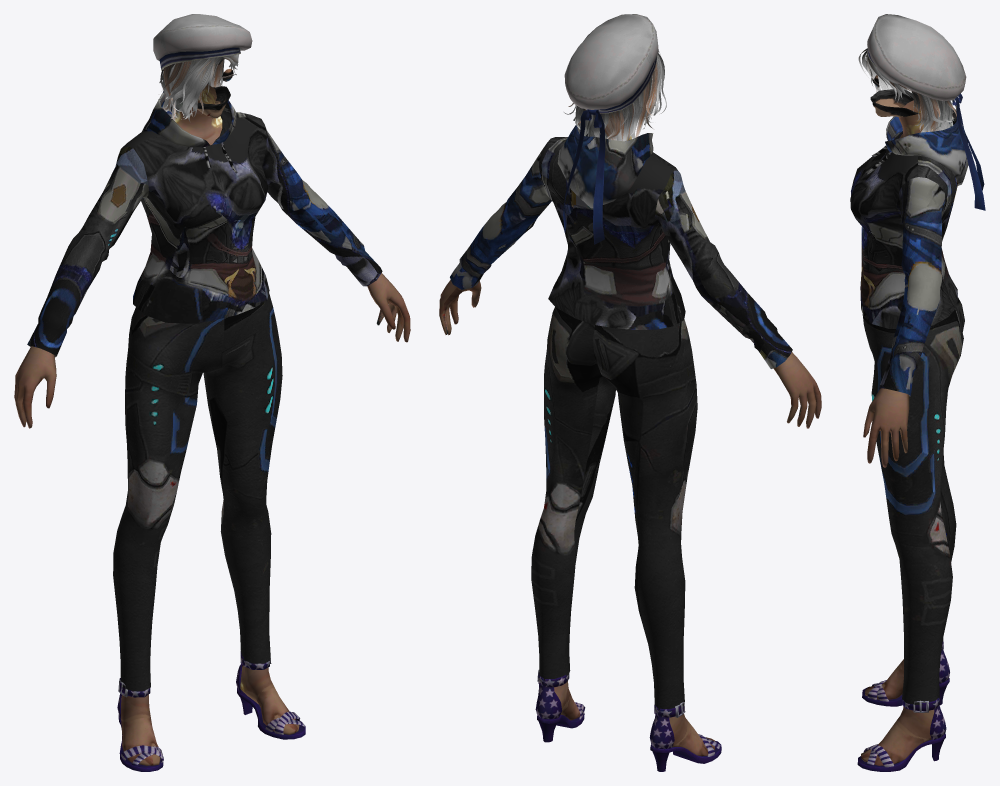
File: 30 dvg.obj
3 renders of one model, left to right at view 1: azimuth 30°, elevation 25°; view 2: azimuth 150°, elevation 25°; view 3: azimuth 270°, elevation 25°, orthographic. The views are drawn at different scales.
Parts seen in each view (by area): view 1: Mesh_0006.rip_Mesh_0006.rip_mesh0000.001, Mesh_0003.rip_Mesh_0003.rip_mesh0000.001, Mesh_0004.rip_Mesh_0004.rip_mesh0000.001, Mesh_0007.rip_Mesh_0007.rip_mesh0000.001, Mesh_0021.rip_Mesh_0021.rip_mesh0000.001, Mesh_0005.rip_Mesh_0005.rip_mesh0000.001; view 2: Mesh_0006.rip_Mesh_0006.rip_mesh0000.001, Mesh_0003.rip_Mesh_0003.rip_mesh0000.001, Mesh_0007.rip_Mesh_0007.rip_mesh0000.001, Mesh_0004.rip_Mesh_0004.rip_mesh0000.001, Mesh_0005.rip_Mesh_0005.rip_mesh0000.001, Mesh_0021.rip_Mesh_0021.rip_mesh0000.001; view 3: Mesh_0003.rip_Mesh_0003.rip_mesh0000.001, Mesh_0006.rip_Mesh_0006.rip_mesh0000.001, Mesh_0007.rip_Mesh_0007.rip_mesh0000.001, Mesh_0004.rip_Mesh_0004.rip_mesh0000.001, Mesh_0005.rip_Mesh_0005.rip_mesh0000.001, Mesh_0021.rip_Mesh_0021.rip_mesh0000.001.
Part boxes in pixels (box(x1,y1,x2,y2)): Mesh_0006.rip_Mesh_0006.rip_mesh0000.001: box(113, 293, 282, 691); Mesh_0003.rip_Mesh_0003.rip_mesh0000.001: box(27, 93, 382, 357); Mesh_0004.rip_Mesh_0004.rip_mesh0000.001: box(14, 69, 410, 765); Mesh_0007.rip_Mesh_0007.rip_mesh0000.001: box(153, 14, 252, 92); Mesh_0021.rip_Mesh_0021.rip_mesh0000.001: box(158, 54, 239, 121); Mesh_0005.rip_Mesh_0005.rip_mesh0000.001: box(117, 651, 305, 771); Mesh_0006.rip_Mesh_0006.rip_mesh0000.001: box(531, 307, 697, 710); Mesh_0003.rip_Mesh_0003.rip_mesh0000.001: box(450, 125, 792, 368); Mesh_0007.rip_Mesh_0007.rip_mesh0000.001: box(563, 14, 658, 244); Mesh_0004.rip_Mesh_0004.rip_mesh0000.001: box(439, 135, 821, 756); Mesh_0005.rip_Mesh_0005.rip_mesh0000.001: box(535, 670, 721, 771); Mesh_0021.rip_Mesh_0021.rip_mesh0000.001: box(564, 51, 666, 141); Mesh_0003.rip_Mesh_0003.rip_mesh0000.001: box(850, 108, 971, 396); Mesh_0006.rip_Mesh_0006.rip_mesh0000.001: box(862, 297, 964, 705); Mesh_0007.rip_Mesh_0007.rip_mesh0000.001: box(867, 14, 985, 210); Mesh_0004.rip_Mesh_0004.rip_mesh0000.001: box(861, 75, 934, 765); Mesh_0005.rip_Mesh_0005.rip_mesh0000.001: box(857, 641, 949, 771); Mesh_0021.rip_Mesh_0021.rip_mesh0000.001: box(858, 48, 957, 134).
Size of the model in its own units: 9.41 by 17.04 by 2.95.
